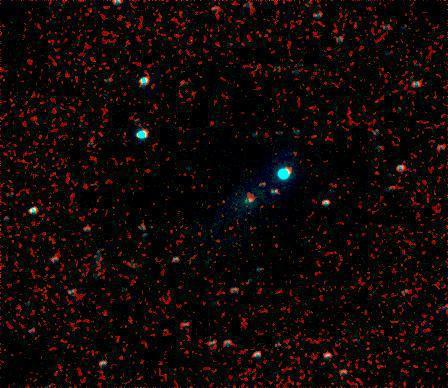star: (233, 187, 263, 217)
